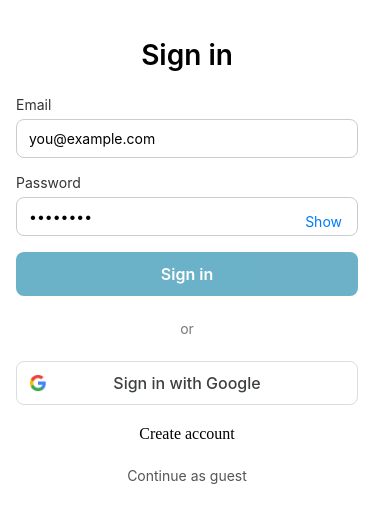
Test: LoginScreen › shows error message when sign-in fails and does not navigate
Type "demo@example.com" into the field named "Email".
click(187, 138); type("demo@example.com")  # box left=16, top=119, right=358, bottom=158
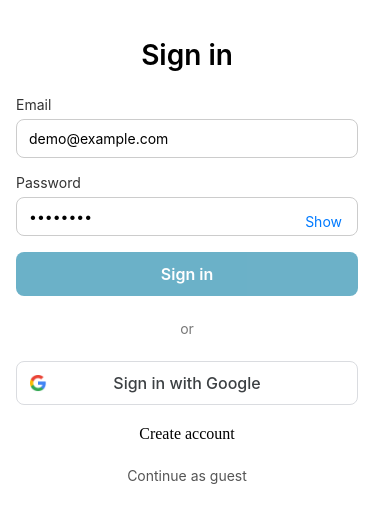
Type "wrongpass" into the password field named "Password".
click(187, 216); type("wrongpass")  # box left=16, top=197, right=358, bottom=236
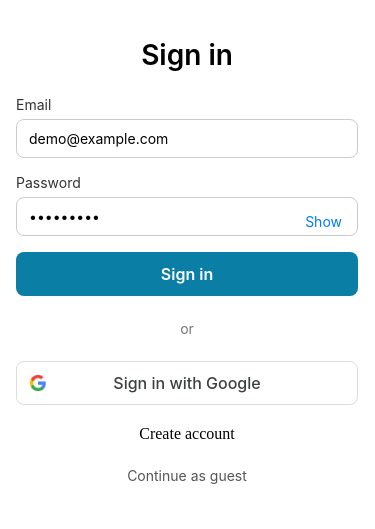
Click the button "Sign in".
click(187, 274)  # box left=16, top=252, right=358, bottom=296
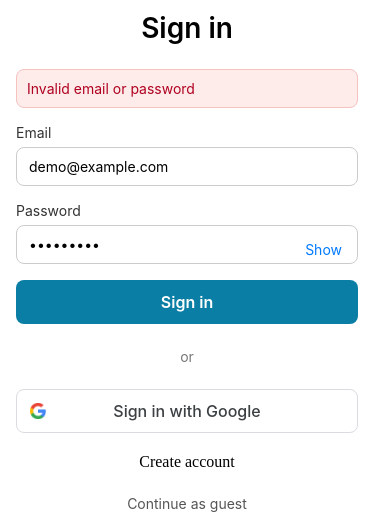
Result: the text "Invalid email or password" is shown at left=27, top=80, right=195, bottom=96
